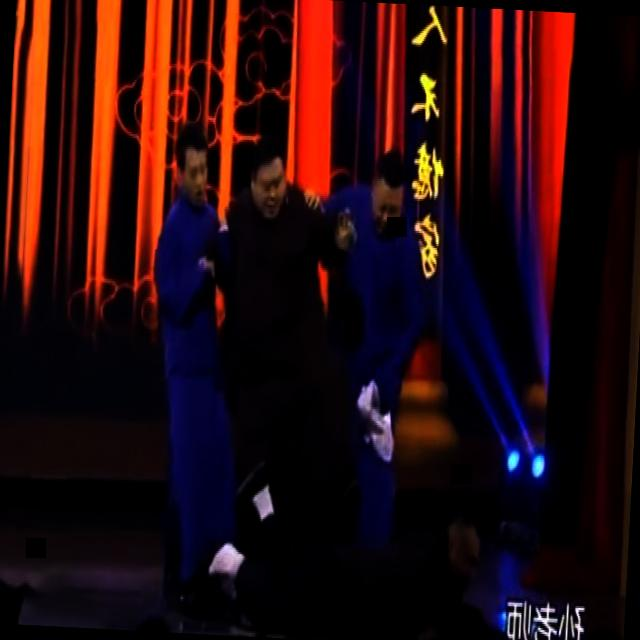Fall-Detected: (181, 483, 498, 640)
